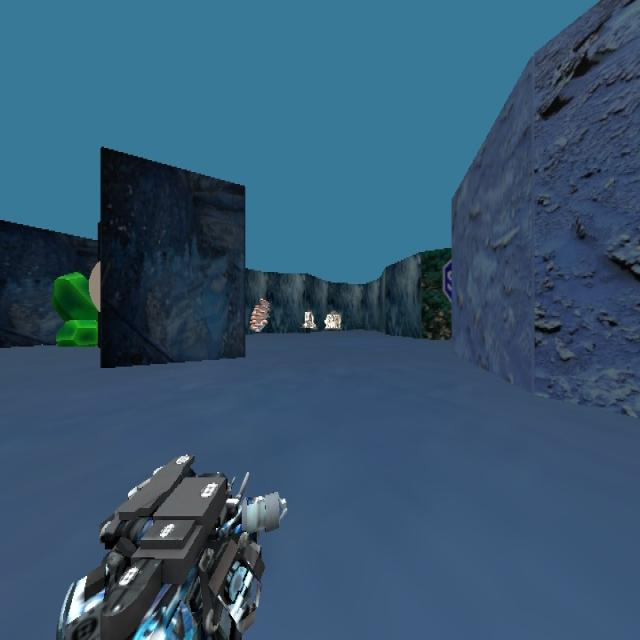Diamon: (50, 269, 99, 347)
Ice: (318, 294, 364, 339), (295, 303, 316, 332)
Mushroom: (249, 296, 270, 333)
Stop_Sign: (441, 257, 451, 303)
